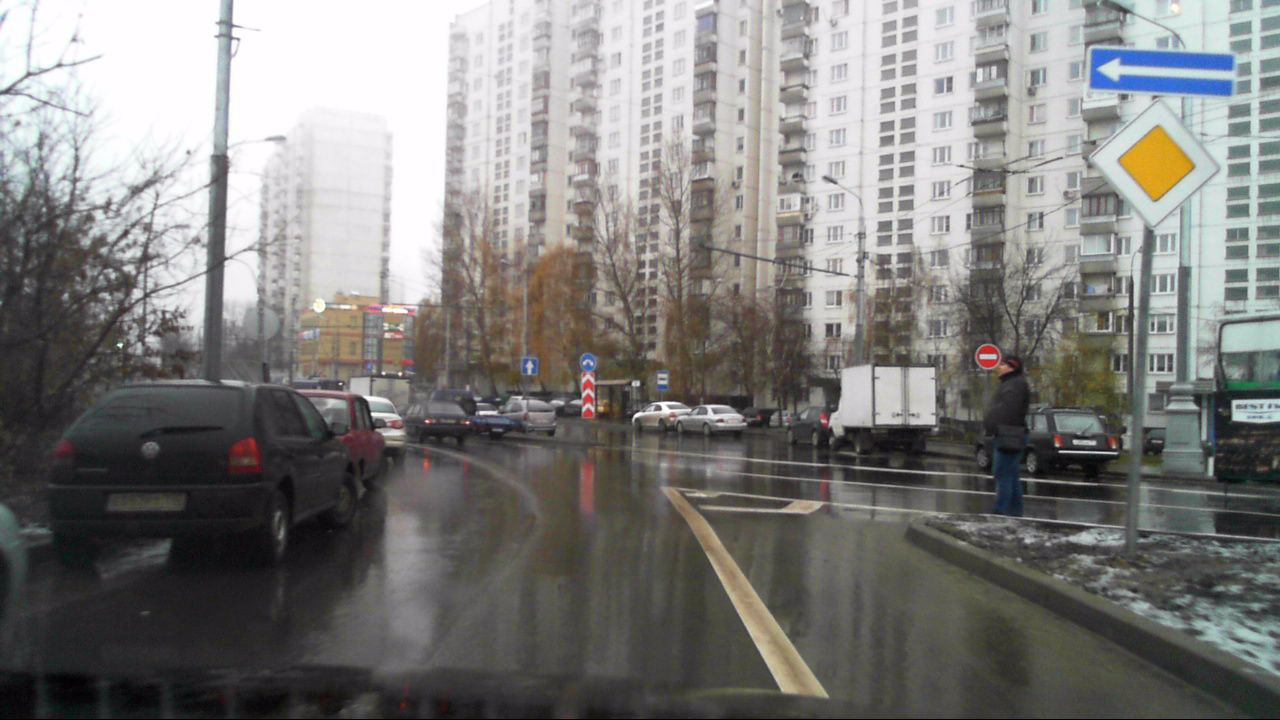One-Way Traffic: (1087, 45, 1235, 95)
